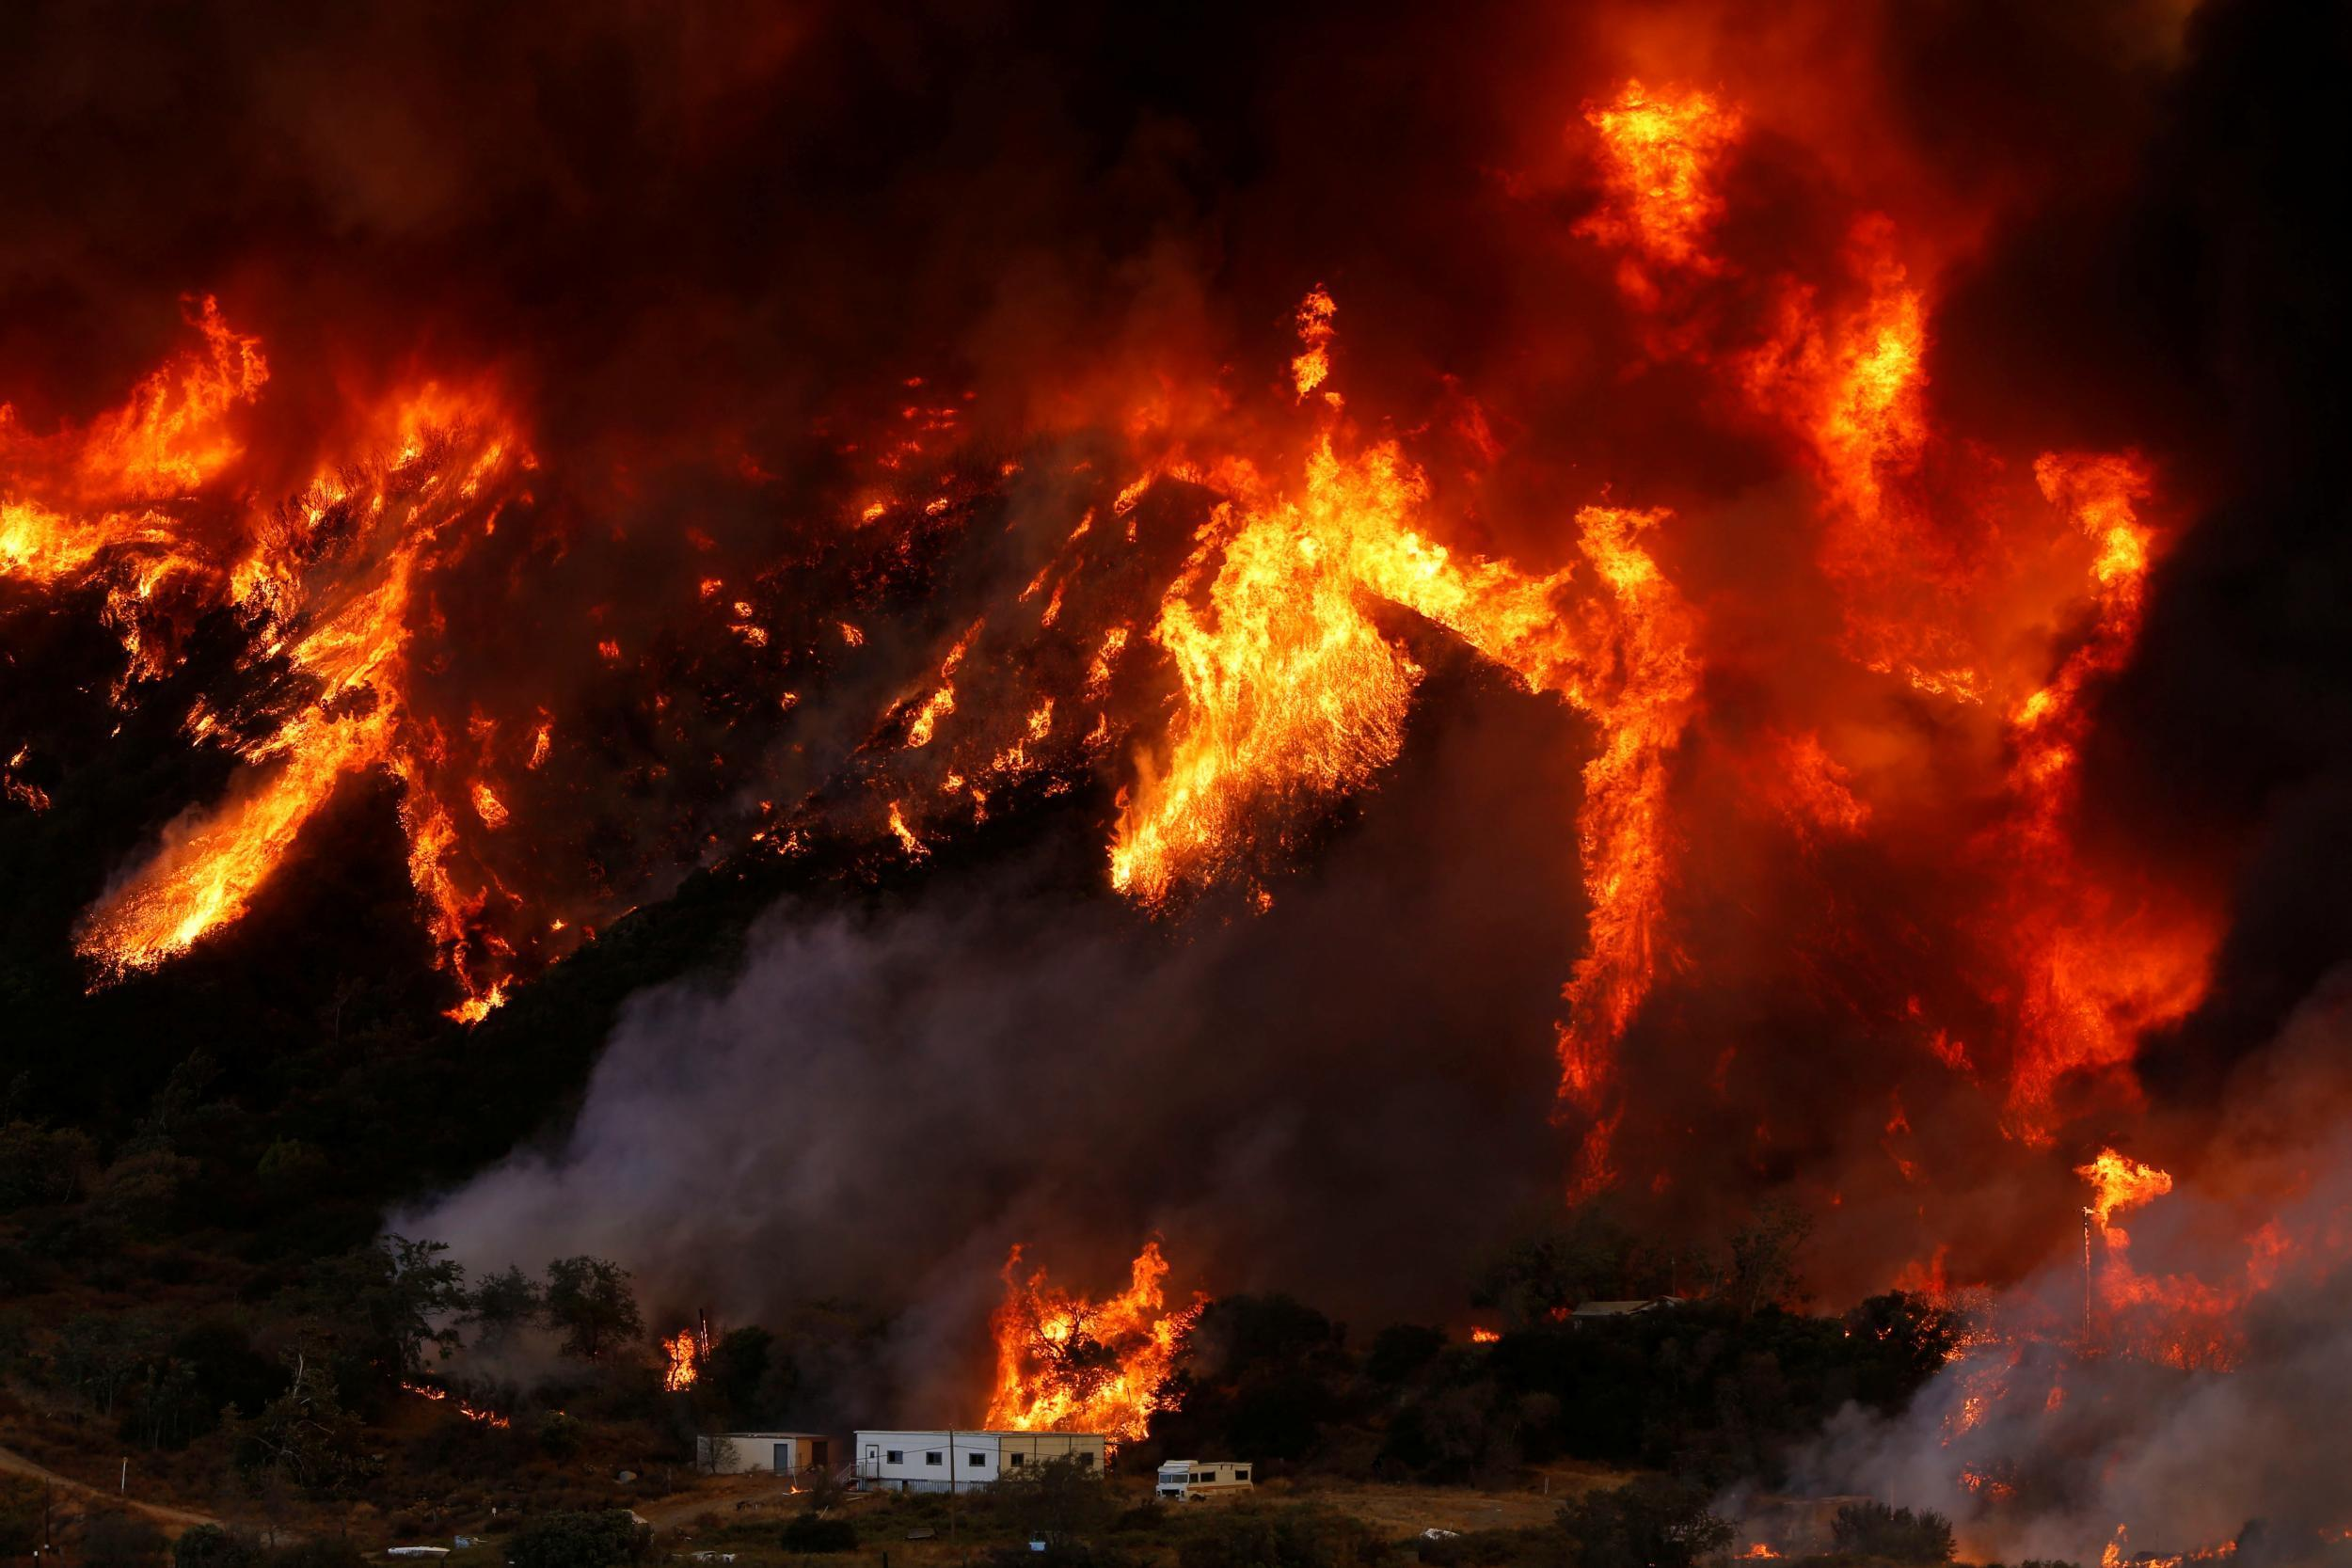Fire: (980, 84, 2284, 1444), (3, 322, 537, 1041)
